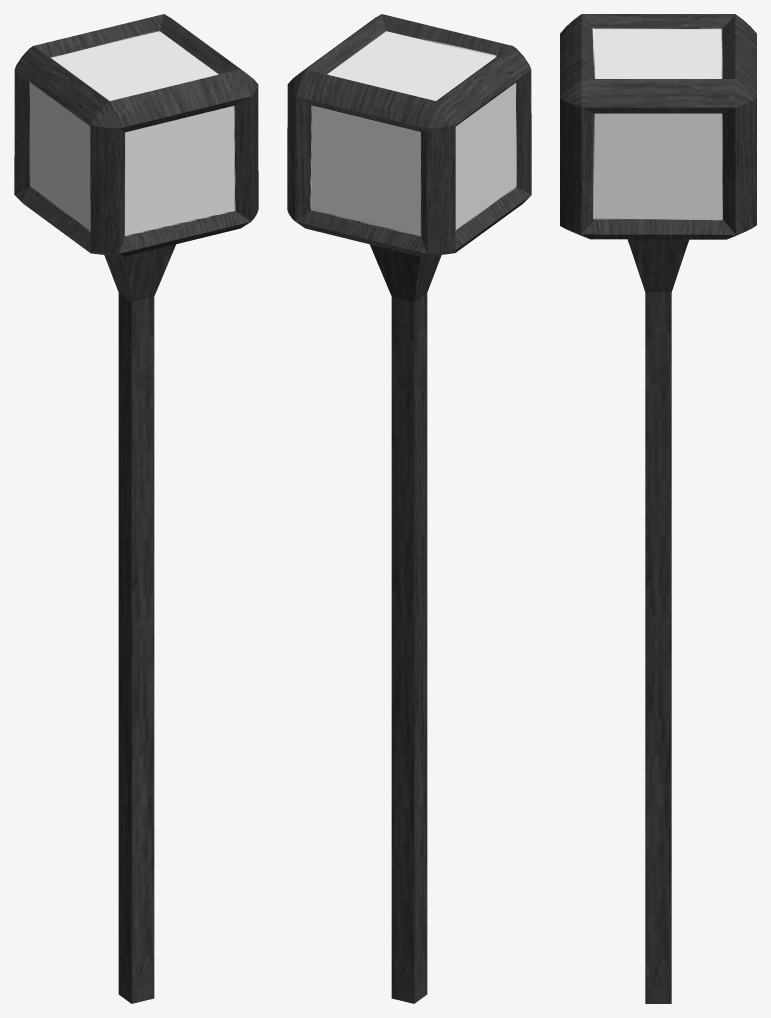
The model's file is lamp post game object.fbx.
3 views of the same model, side by side, from view 1: azimuth 30°, elevation 25°; view 2: azimuth 150°, elevation 25°; view 3: azimuth 270°, elevation 25° (orthographic).
Parts seen in each view (by area): view 1: Lamp8; view 2: Lamp8; view 3: Lamp8.
Part boxes in pixels (x1,y1,x2,y2): Lamp8: (14, 14, 258, 1003); Lamp8: (287, 14, 531, 1003); Lamp8: (560, 14, 756, 1003).
Size of the model in its own units: 7.49 by 39.99 by 7.49.
